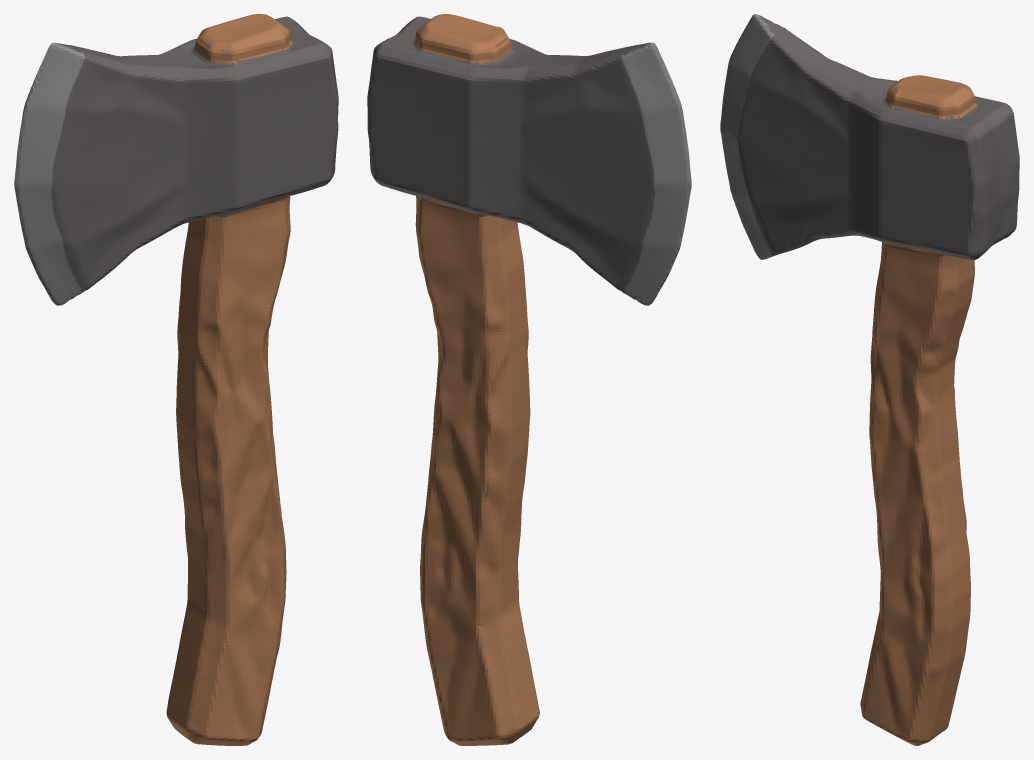
File: Axe2.fbx
3 renders of one model, left to right at view 1: azimuth 30°, elevation 25°; view 2: azimuth 150°, elevation 25°; view 3: azimuth 330°, elevation 25°, orthographic. The views are drawn at different scales.
Parts seen in each view (by area): view 1: Axe; view 2: Axe; view 3: Axe.
Part boxes in pixels (x1,y1,x2,y2): Axe: [14, 14, 338, 745]; Axe: [367, 14, 691, 745]; Axe: [720, 14, 1019, 745].
Bounding box in the file's own units: 84.76 × 196 × 23.93.
1 material, 1 textured.
